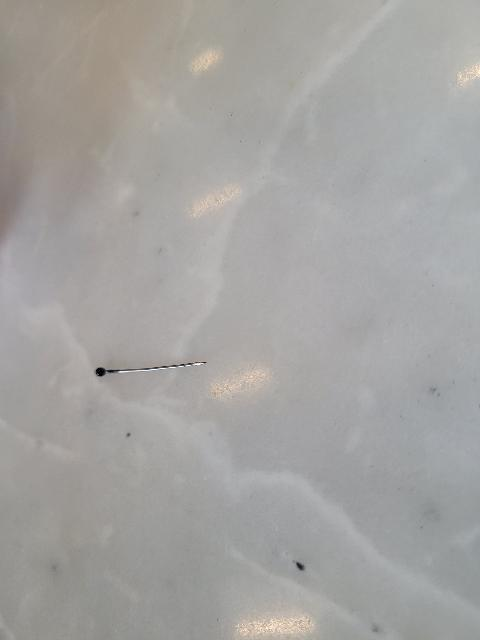Metal: (91, 340, 211, 399)
